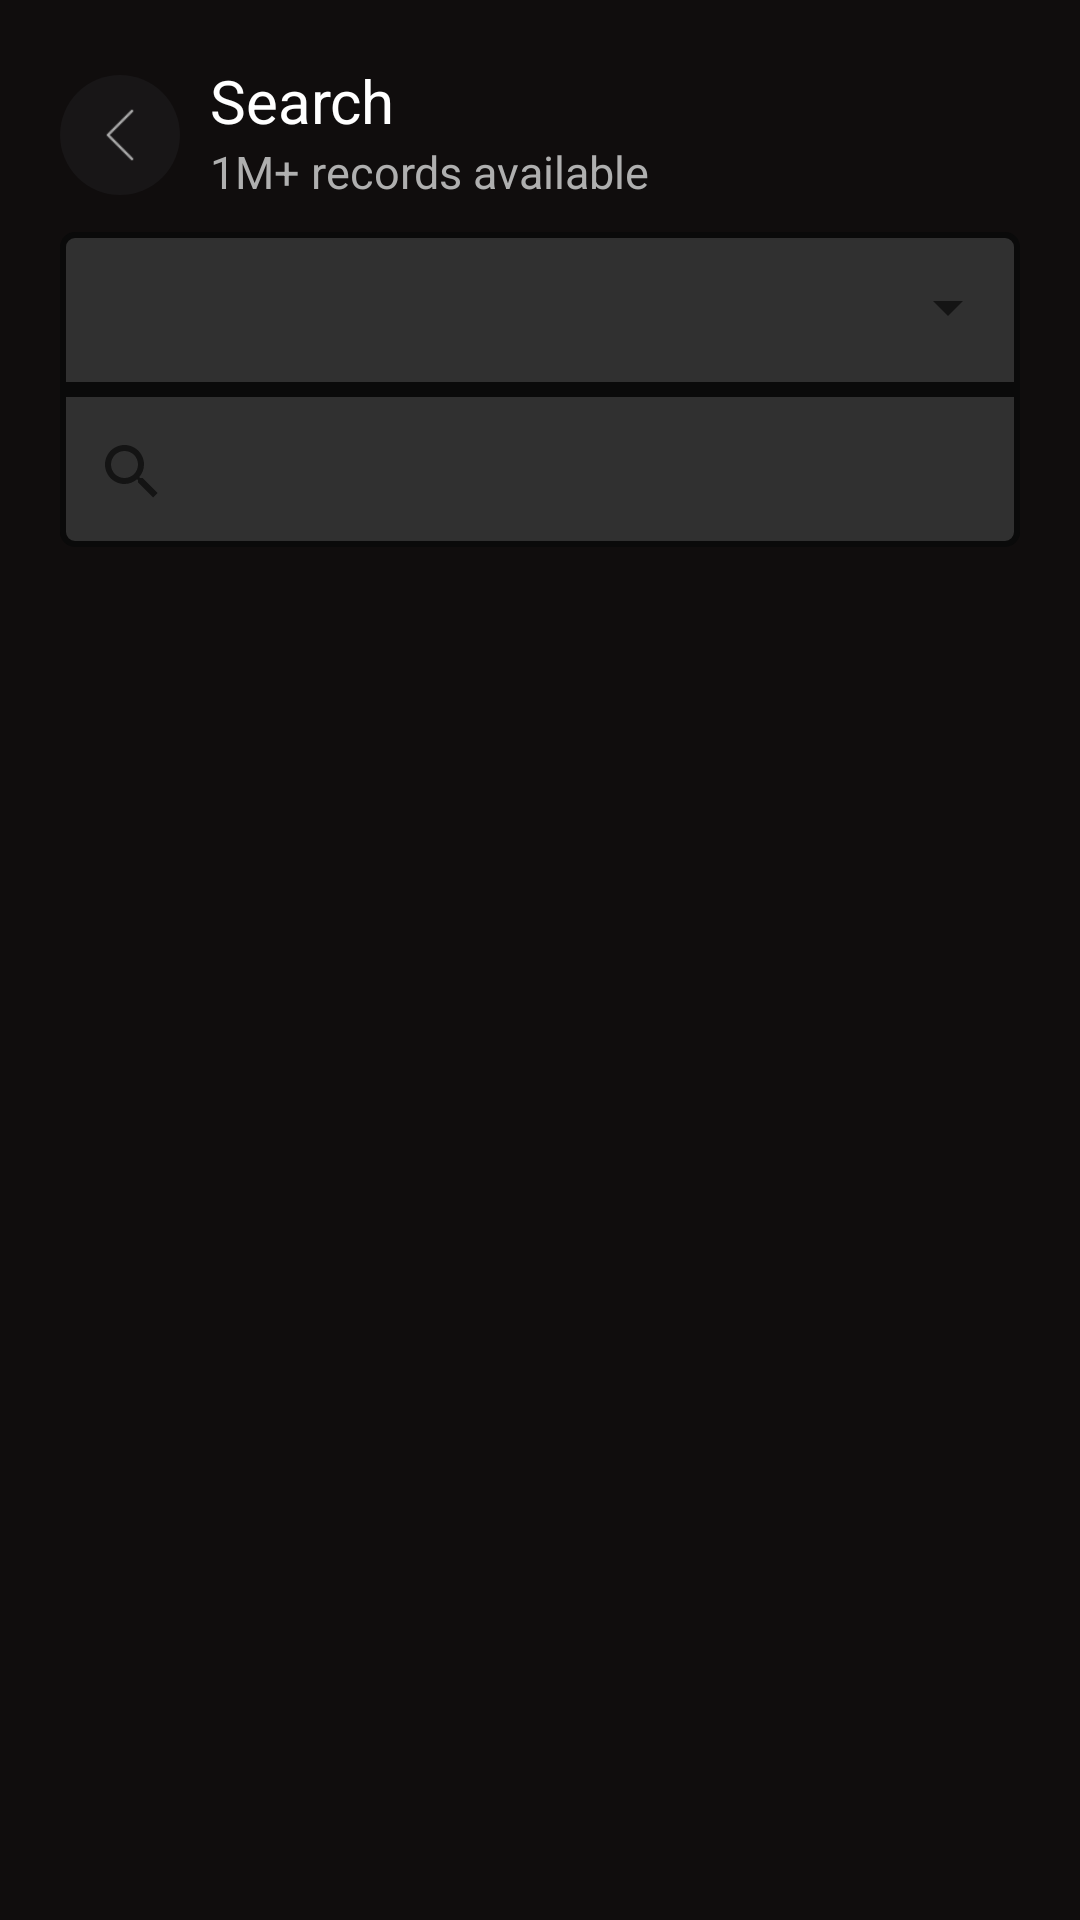

Icon click points for this 1080w x 1920h phone screenshot, format (x,y):
go back: (120,135)
